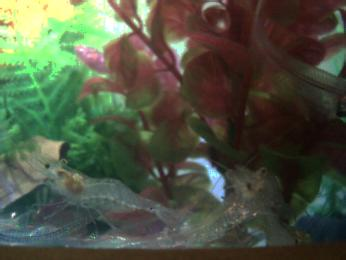glassfish: (249, 2, 346, 108), (2, 206, 114, 248)
siberian prawn: (34, 152, 186, 228), (222, 164, 309, 244)
